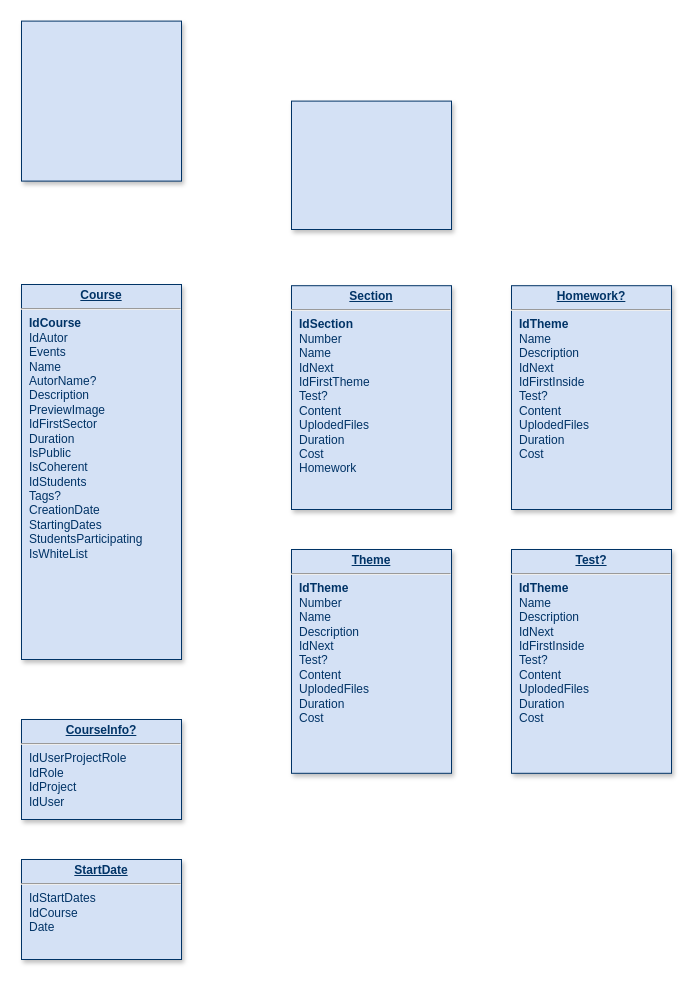
The diagram is 695 pixels wide and 985 high, and some of its shapes have lost their labels. Here are the shapes that lost their labels. From the top down, the centre of each, then its label:
point (102, 102): Autor IdAutor Name Description PreviewImage
point (372, 166): Events IdEvent StartTime Type Content Section Theme
